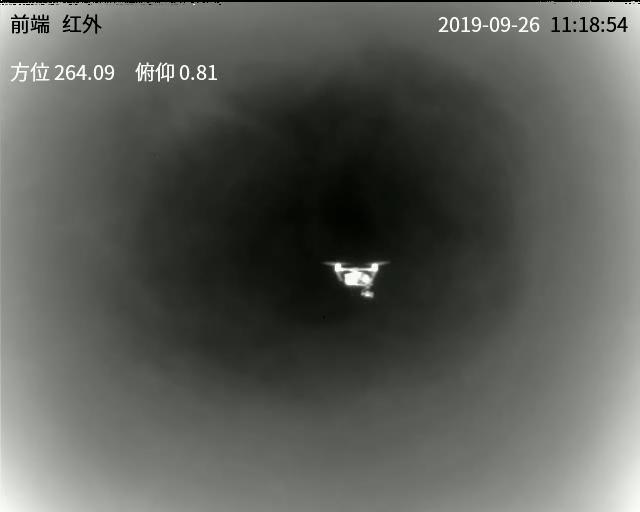uav: (318, 251, 393, 304)
